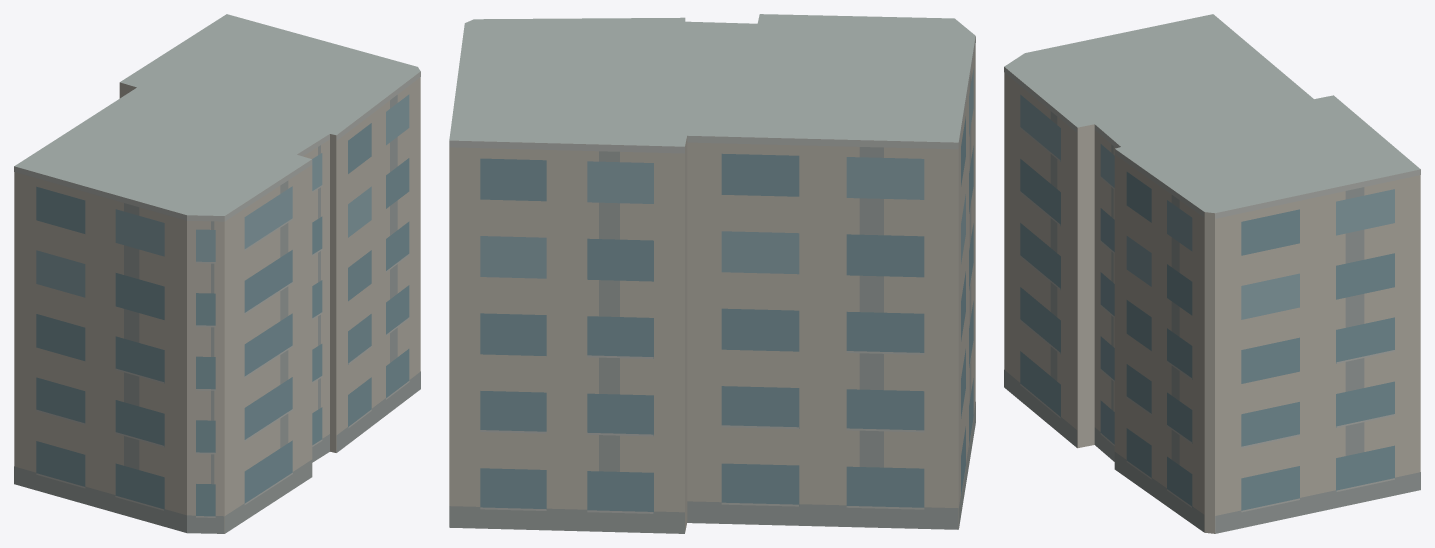
The model's file is survey-upis-32565123.glb.
3 views of the same model, side by side, from view 1: azimuth 30°, elevation 25°; view 2: azimuth 150°, elevation 25°; view 3: azimuth 270°, elevation 25° (orthographic). The views are drawn at different scales.
Parts seen in each view (by area): view 1: survey-upis-32565123.tmp; view 2: survey-upis-32565123.tmp; view 3: survey-upis-32565123.tmp.
Part boxes in pixels (box(x1,y1,x2,y2)): survey-upis-32565123.tmp: box(14, 14, 420, 533); survey-upis-32565123.tmp: box(449, 14, 975, 533); survey-upis-32565123.tmp: box(1004, 14, 1420, 533).
Bounding box in the file's own units: 18.53 × 13.9 × 16.38.
